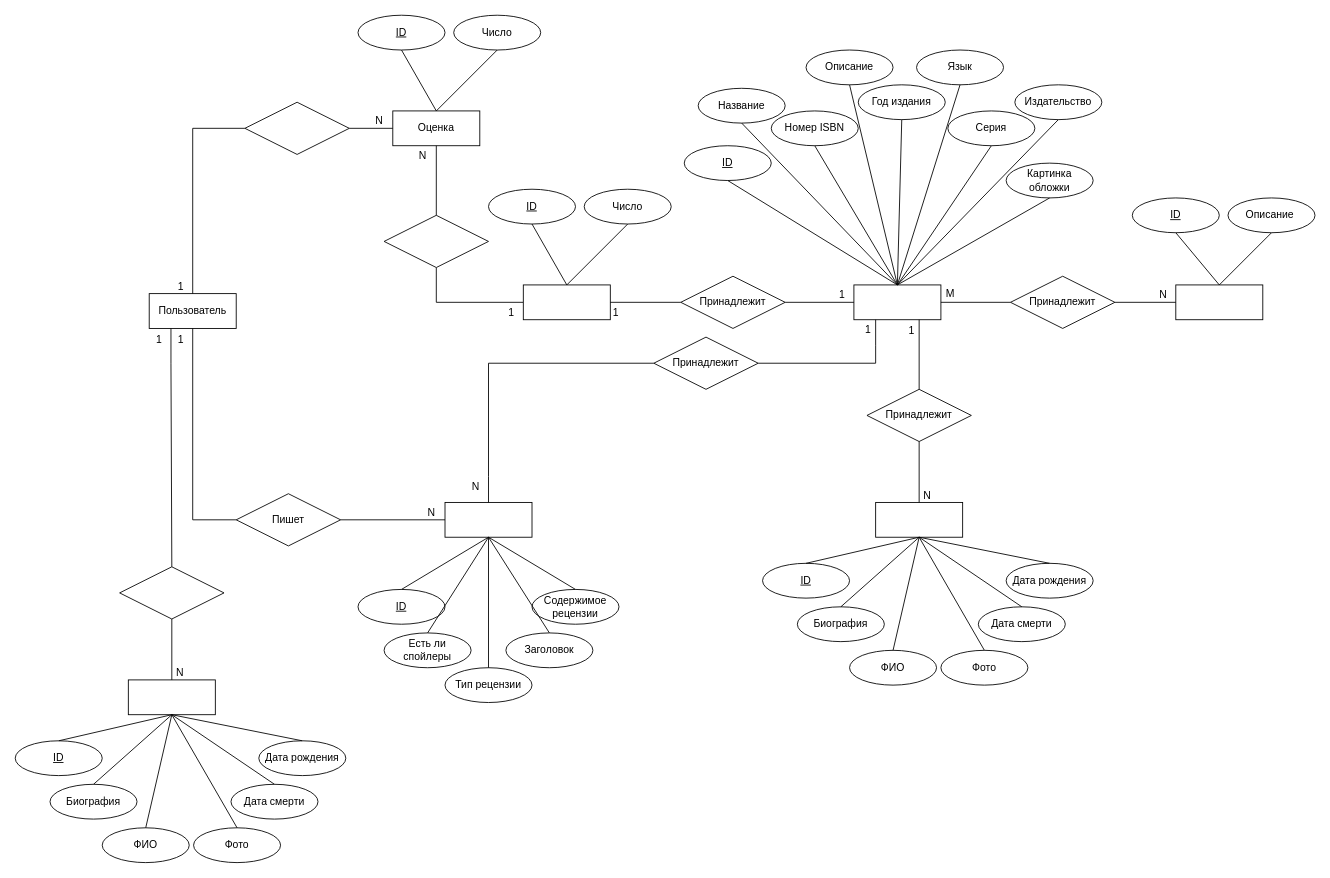
Some shapes in this 1330 by 878 pixel diagram are drawn without their labels. Here are the shapes that lost their labels. From the top down, the box of each, then its label:
(244, 101, 349, 154): Ставит
(383, 214, 489, 268): Формирует
(522, 284, 610, 320): Рейтинг книги
(853, 284, 941, 320): Книга
(1175, 284, 1263, 320): Жанр
(444, 502, 532, 537): Рецензия
(875, 502, 963, 537): Автор
(119, 566, 224, 619): Отправляет
(127, 679, 215, 715): Заявку на создание книги
